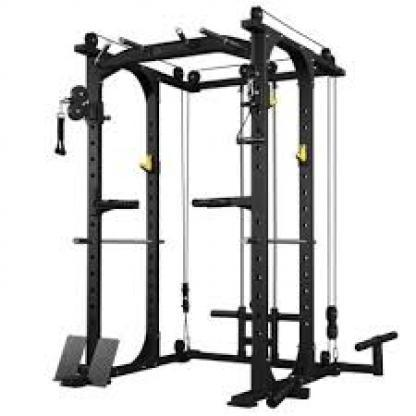smith machine: (55, 6, 398, 409)
